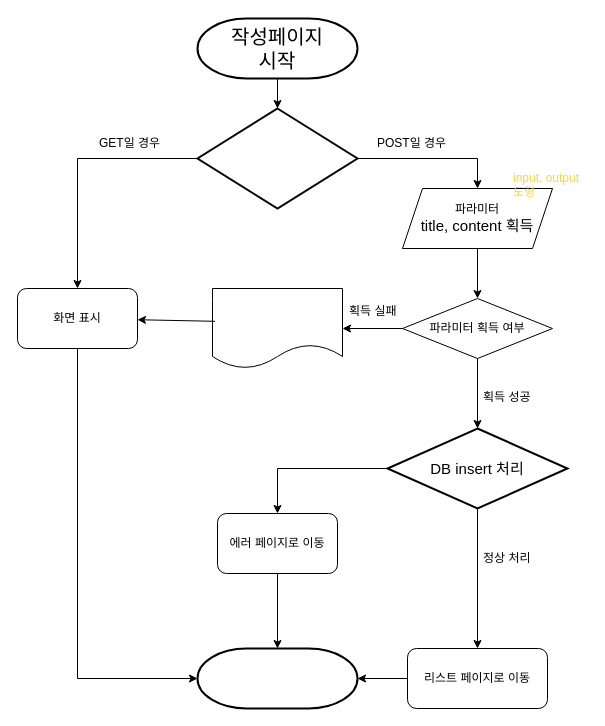
Image size: 605x726. Some labels were removed from this diagram. The shapes that lost their labels are listed below. From the top down, each one's centre as x and y in pixels, then its label:
(x=277, y=158): Http Method확인
(x=277, y=328): 에러 메세지 출력
(x=277, y=678): 처리종료
